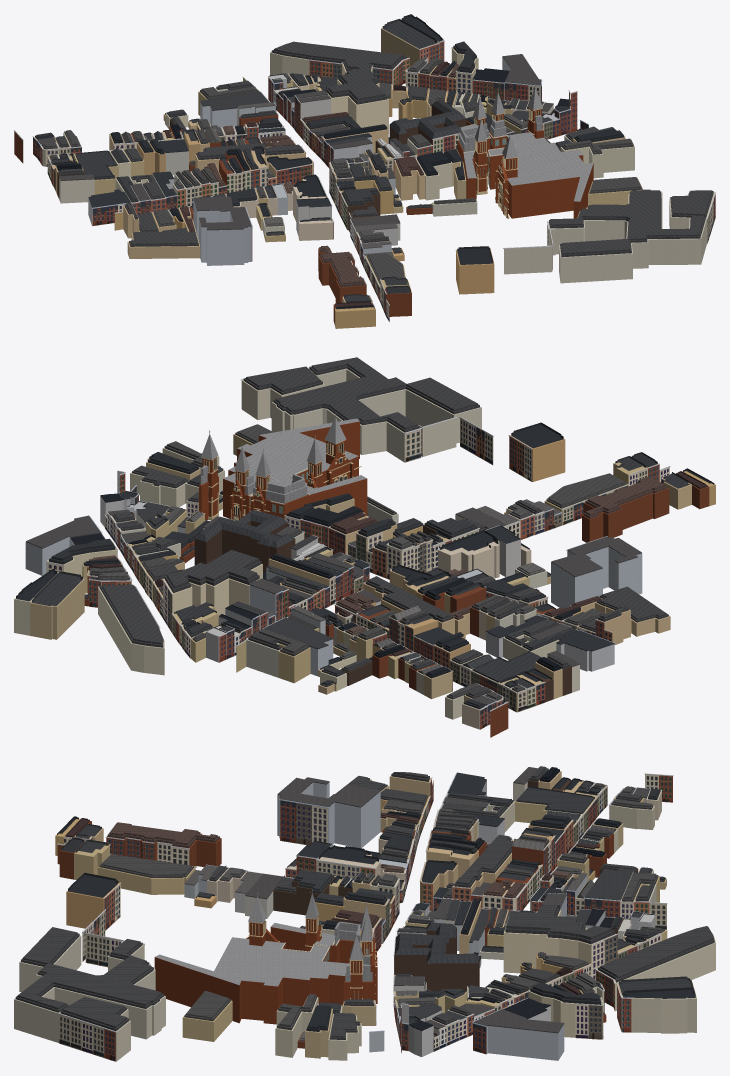
3 views of the same model, one above another, from view 1: azimuth 30°, elevation 25°; view 2: azimuth 150°, elevation 25°; view 3: azimuth 270°, elevation 25° (orthographic). The views are drawn at different scales.
Visible parts, largest first — view 1: bldg_498900467, bldg_498900467_roof_b, bldg_312779500, bldg_312779500_roof, bldg_498835501, bldg_497466527_roof_b, bldg_12835745_roof, bldg_498874945, bldg_498900469_facade5, bldg_498874945_roof_b, bldg_498882457, bldg_499028578 (+39 smaller); view 2: bldg_498900467, bldg_498900467_roof_b, bldg_498835501, bldg_312779500_roof, bldg_498835535, bldg_12835745, bldg_497466527, bldg_498874945, bldg_497466522, bldg_497466527_roof_b, bldg_12835745_roof, bldg_498874945_roof_b (+36 smaller); view 3: bldg_312779500, bldg_498900467_roof_b, bldg_498900467, bldg_312779500_roof, bldg_498835501, bldg_497466523, bldg_12835745, bldg_498874945, bldg_1160705231, bldg_497466527_roof_b, bldg_498835501_facade0, bldg_12835745_roof (+56 smaller).
Part boxes in pixels (x1=…): bldg_498900467: x1=547, y1=192, x2=706, y2=283; bldg_498900467_roof_b: x1=550, y1=189, x2=703, y2=254; bldg_312779500: x1=490, y1=133, x2=593, y2=218; bldg_312779500_roof: x1=489, y1=132, x2=593, y2=201; bldg_498835501: x1=193, y1=198, x2=251, y2=265; bldg_497466527_roof_b: x1=274, y1=41, x2=403, y2=66; bldg_12835745_roof: x1=390, y1=100, x2=465, y2=138; bldg_498874945: x1=324, y1=63, x2=388, y2=133; bldg_498900469_facade5: x1=503, y1=245, x2=553, y2=274; bldg_498874945_roof_b: x1=326, y1=59, x2=385, y2=100; bldg_498882457: x1=560, y1=141, x2=634, y2=178; bldg_499028578: x1=456, y1=249, x2=494, y2=294; bldg_498900467: x1=271, y1=368, x2=481, y2=462; bldg_498900467_roof_b: x1=275, y1=357, x2=477, y2=429; bldg_498835501: x1=551, y1=547, x2=642, y2=608; bldg_312779500_roof: x1=223, y1=418, x2=359, y2=484; bldg_498835535: x1=582, y1=483, x2=669, y2=542; bldg_12835745: x1=194, y1=520, x2=295, y2=572; bldg_497466527: x1=98, y1=587, x2=164, y2=675; bldg_498874945: x1=164, y1=564, x2=262, y2=616; bldg_497466522: x1=30, y1=579, x2=84, y2=639; bldg_497466527_roof_b: x1=102, y1=584, x2=161, y2=644; bldg_12835745_roof: x1=194, y1=509, x2=294, y2=548; bldg_498874945_roof_b: x1=167, y1=550, x2=258, y2=588; bldg_312779500: x1=154, y1=943, x2=345, y2=1024; bldg_498900467_roof_b: x1=17, y1=927, x2=161, y2=1009; bldg_498900467: x1=14, y1=935, x2=165, y2=1042; bldg_312779500_roof: x1=155, y1=937, x2=347, y2=986; bldg_498835501: x1=277, y1=782, x2=380, y2=848; bldg_497466523: x1=621, y1=991, x2=696, y2=1033; bldg_12835745: x1=394, y1=928, x2=479, y2=991; bldg_498874945: x1=503, y1=910, x2=615, y2=976; bldg_1160705231: x1=486, y1=1019, x2=564, y2=1060; bldg_497466527_roof_b: x1=600, y1=926, x2=712, y2=978; bldg_498835501_facade0: x1=279, y1=799, x2=328, y2=845; bldg_12835745_roof: x1=394, y1=922, x2=479, y2=963.
Bounding box in the file's own units: 276 × 41.67 × 301.
Materials: 132 (60 with a texture image).
